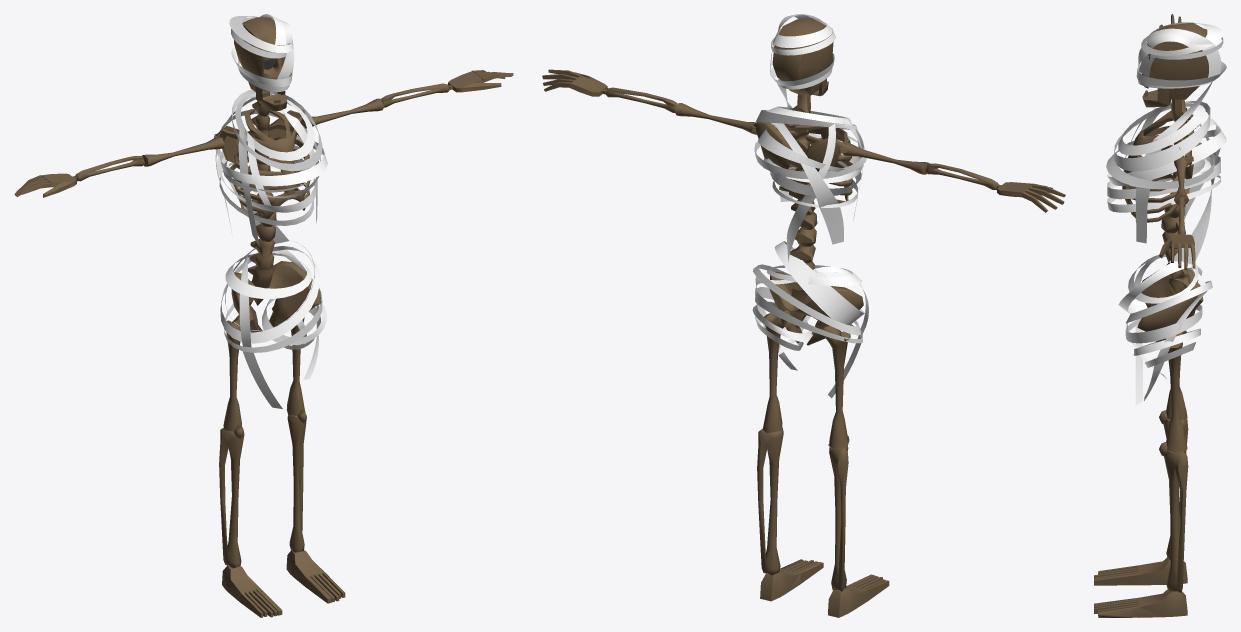
File: enemy model.fbx
The picture shows the model from 3 angles, left to right: view 1: azimuth 30°, elevation 25°; view 2: azimuth 150°, elevation 25°; view 3: azimuth 270°, elevation 25°; orthographic projection. The views are drawn at different scales.
Parts seen in each view (by area): view 1: Model, Group1; view 2: Model, Group1; view 3: Group1, Model.
Boxes of the visible parts, x1,y1,x2,y2 form: Model: (14,17,513,617); Group1: (215,14,327,408); Model: (542,18,1065,617); Group1: (752,14,868,398); Group1: (1106,22,1226,405); Model: (1094,14,1208,617).
Bounding box in the file's own units: 6.27 × 6.73 × 1.42.
